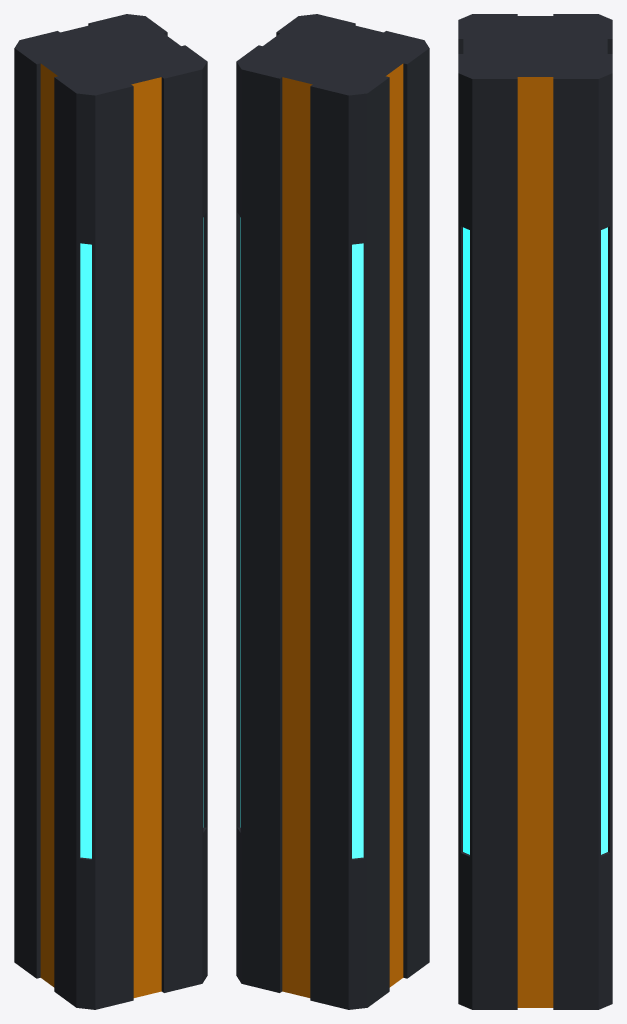
Rendered from SM_Corner_Cover_Post.glb.
3 renders of one model, left to right at view 1: azimuth 30°, elevation 25°; view 2: azimuth 150°, elevation 25°; view 3: azimuth 270°, elevation 25°, orthographic.
Parts seen in each view (by area): view 1: SM_Corner_Cover_Post; view 2: SM_Corner_Cover_Post; view 3: SM_Corner_Cover_Post.
Boxes of the visible parts, x1,y1,x2,y2 form: SM_Corner_Cover_Post: [14, 14, 207, 1009]; SM_Corner_Cover_Post: [236, 14, 429, 1009]; SM_Corner_Cover_Post: [458, 14, 612, 1009].
Bounding box in the file's own units: 4 × 26.67 × 4.
